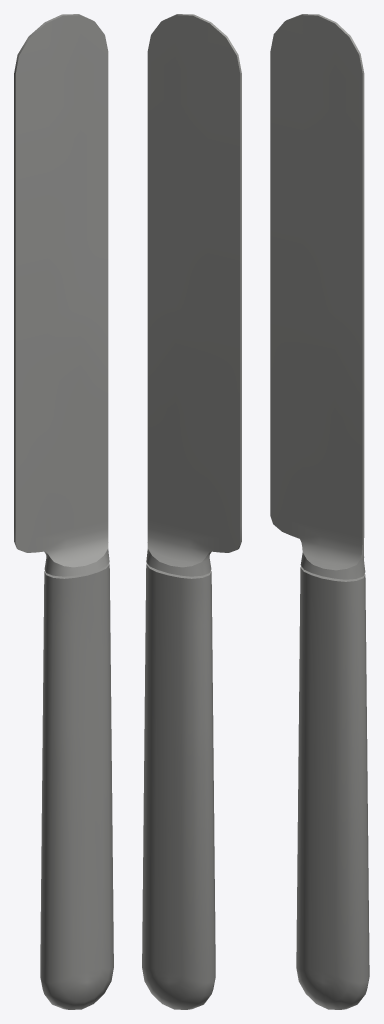
Rendered from knife.glb.
The picture shows the model from 3 angles, left to right: view 1: azimuth 30°, elevation 25°; view 2: azimuth 150°, elevation 25°; view 3: azimuth 330°, elevation 25°; orthographic projection.
Parts seen in each view (by area): view 1: knife; view 2: knife; view 3: knife.
Boxes of the visible parts, x1=… form: knife: x1=14, y1=14, x2=113, y2=1009; knife: x1=142, y1=14, x2=241, y2=1009; knife: x1=270, y1=14, x2=369, y2=1009.
Size of the model in its own units: 0.0233 by 0.2278 by 0.00881.
1 material, 1 textured.
